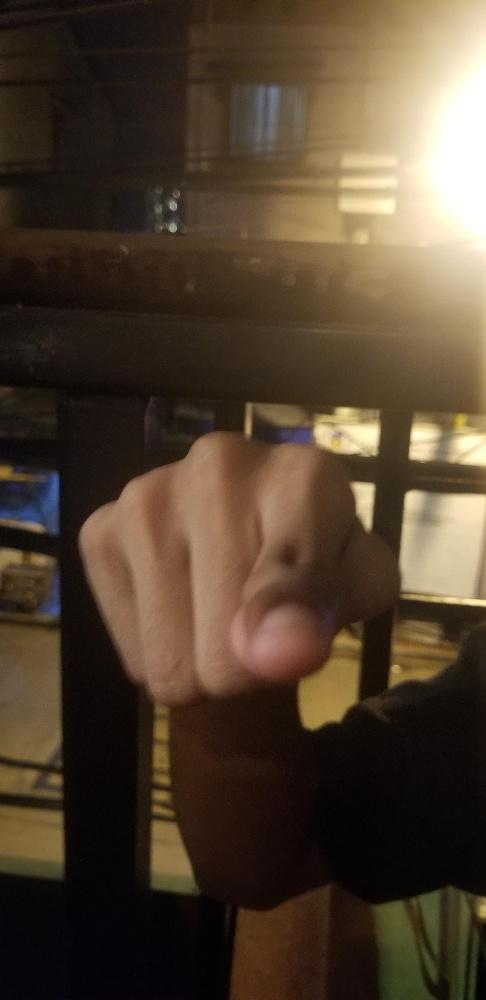z: (77, 429, 401, 708)
